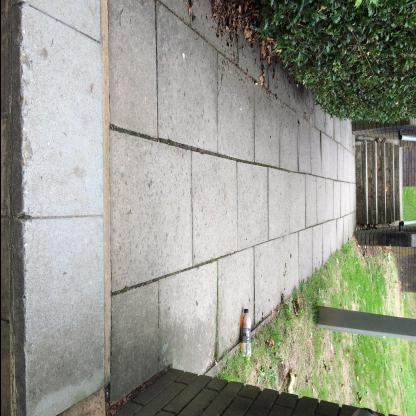plastik: (240, 308, 250, 358)
